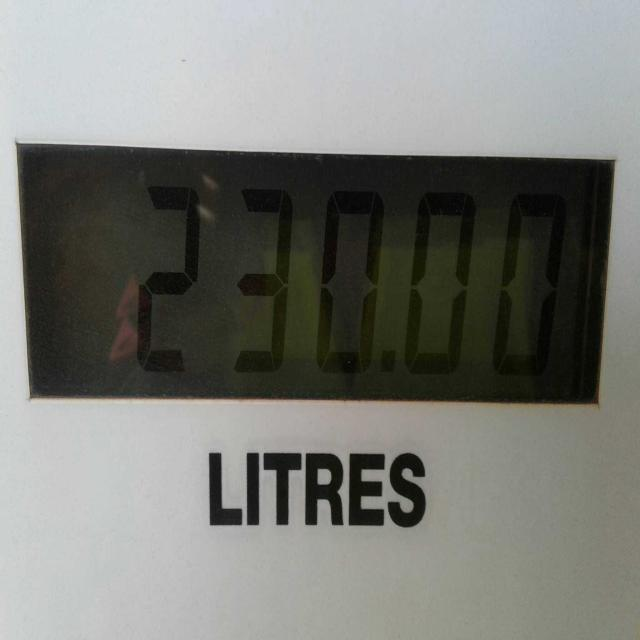.: (382, 346, 394, 369)
0: (490, 200, 560, 377), (321, 192, 382, 379), (406, 200, 470, 367)
2: (141, 190, 198, 378)
3: (228, 181, 289, 379)
